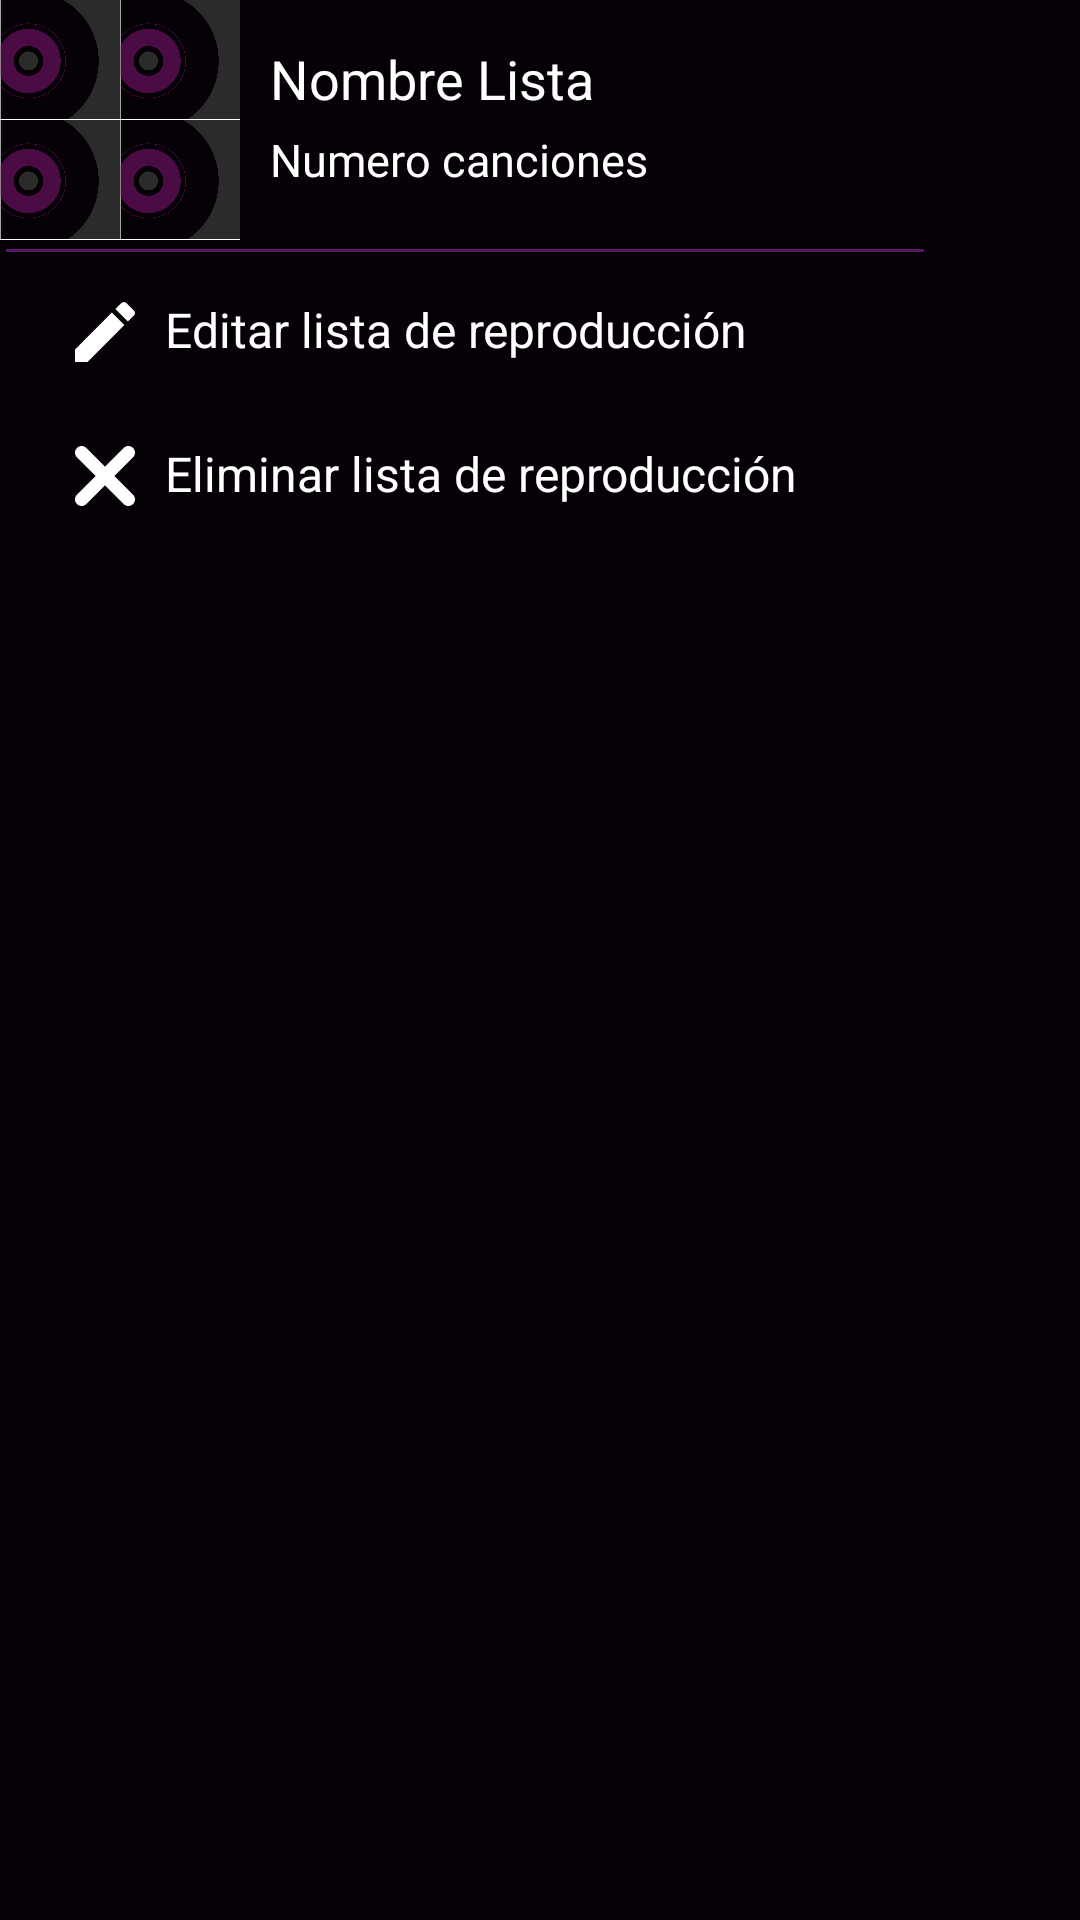

Screen size 1080*1920. Icon name, then its box in pixels as (x1, y1, x2, y2):
quit: (75, 446, 135, 506)
